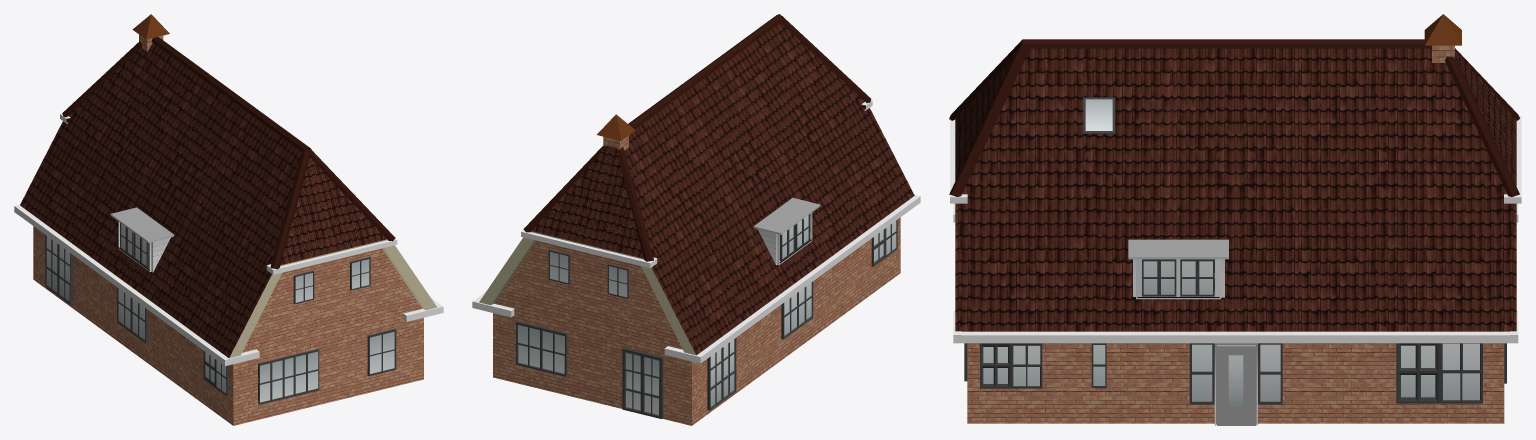
File: Stjelp 12.fbx
3 views of the same model, side by side, from view 1: azimuth 30°, elevation 25°; view 2: azimuth 150°, elevation 25°; view 3: azimuth 270°, elevation 25° (orthographic). The views are drawn at different scales.
Visible parts, largest first — view 1: Woning_Stjelp_12:Stjelp_12; view 2: Woning_Stjelp_12:Stjelp_12; view 3: Woning_Stjelp_12:Stjelp_12.
Boxes of the visible parts, box(x1,y1,x2,y2) form: Woning_Stjelp_12:Stjelp_12: box(14, 14, 443, 425); Woning_Stjelp_12:Stjelp_12: box(472, 14, 920, 425); Woning_Stjelp_12:Stjelp_12: box(949, 14, 1521, 425).
Size of the model in its own units: 7.55 by 8.54 by 12.76.
